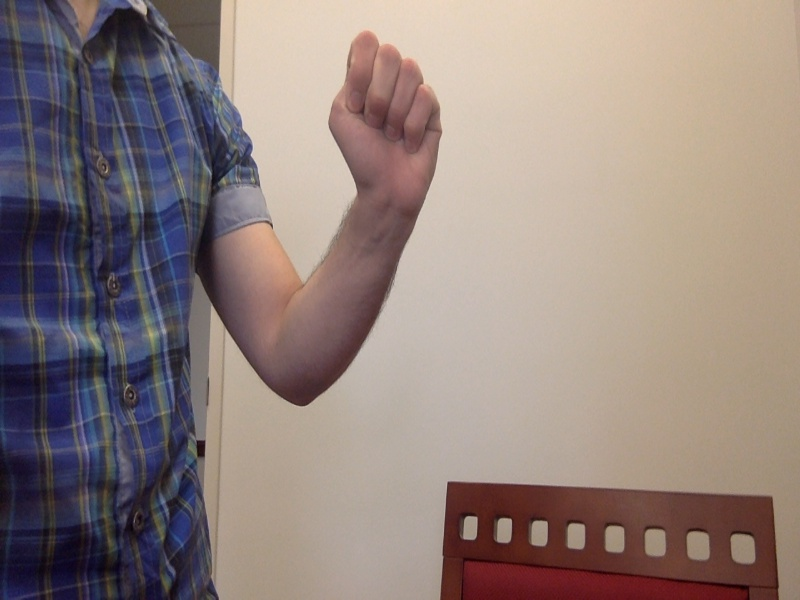0-hand: (325, 30, 457, 194)
